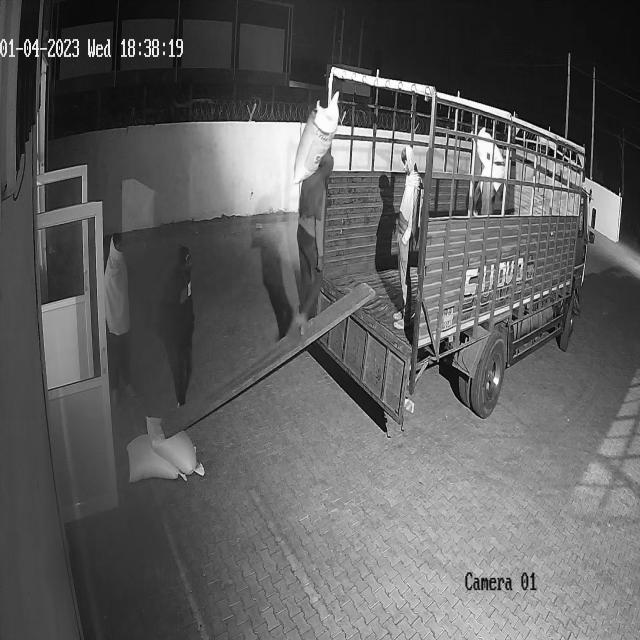sack: (293, 91, 339, 183), (146, 414, 204, 476), (126, 434, 188, 482)
